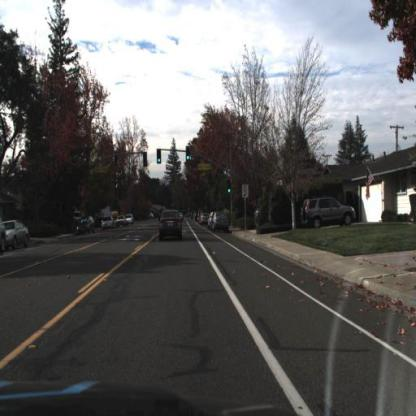car: (301, 196, 358, 230), (1, 221, 31, 255), (158, 208, 185, 244), (212, 208, 232, 234), (77, 215, 94, 238), (252, 203, 264, 231), (102, 216, 116, 232), (116, 214, 127, 229), (126, 214, 134, 226)
trafficLight-Green: (157, 148, 163, 165), (157, 149, 163, 166), (186, 145, 191, 163), (227, 180, 232, 196), (186, 146, 191, 161), (227, 180, 232, 195)
